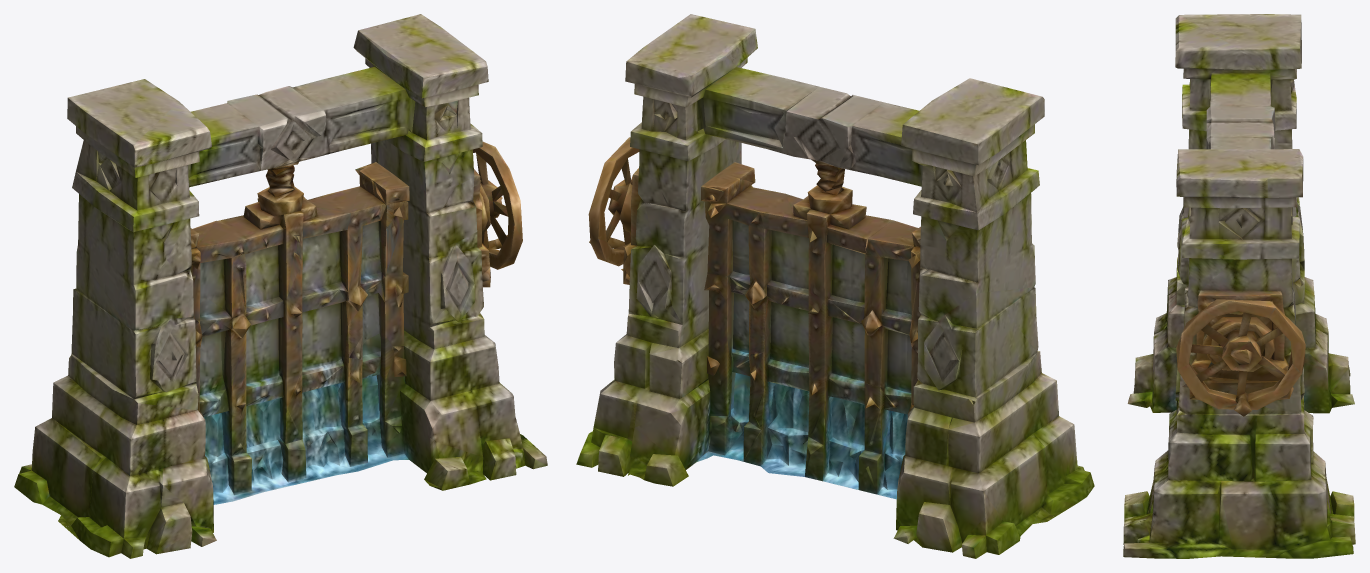
File: m2RuinFloodGateV2I.glb
The picture shows the model from 3 angles, left to right: view 1: azimuth 30°, elevation 25°; view 2: azimuth 150°, elevation 25°; view 3: azimuth 270°, elevation 25°; orthographic projection. The views are drawn at different scales.
Parts seen in each view (by area): view 1: model; view 2: model; view 3: model.
Part boxes in pixels (bbox=[...]): model: bbox=[14, 14, 547, 558]; model: bbox=[576, 14, 1094, 558]; model: bbox=[1123, 14, 1355, 558].
Bounding box in the file's own units: 1.89 × 1.54 × 0.8803.
1 material, 1 textured.
